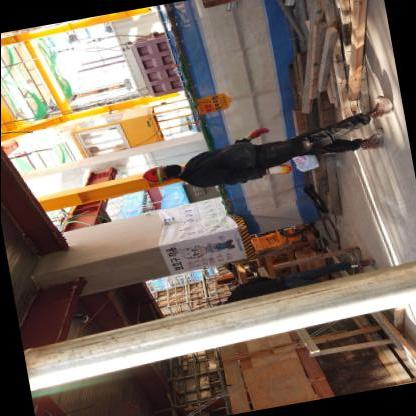Helmet: (140, 162, 163, 189)
safety-shoe: (351, 126, 393, 160), (360, 93, 403, 126), (349, 254, 378, 269)
